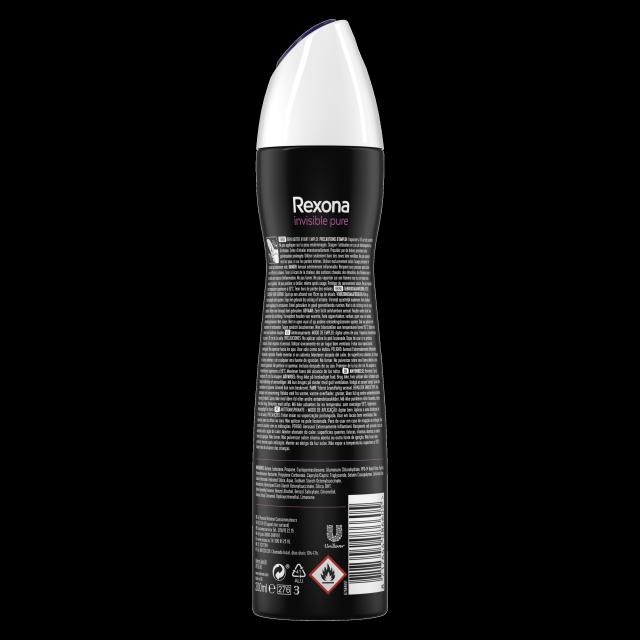GHS_Symbol_FLAME: (308, 554, 347, 595)
